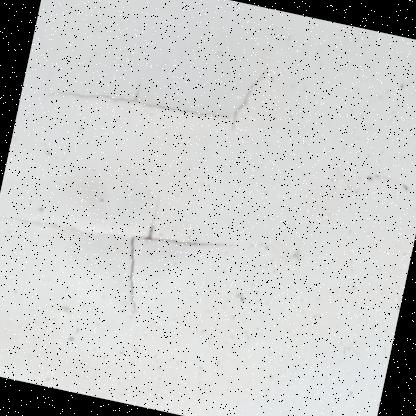Crack: (0, 0, 308, 365)
